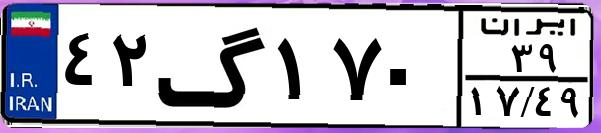0: (385, 28, 445, 110)
1: (270, 28, 330, 110), (470, 70, 495, 125)
2: (110, 28, 156, 98)
3: (508, 27, 537, 80)
4: (57, 26, 110, 100), (535, 70, 560, 125)
7: (330, 28, 385, 110), (495, 70, 520, 125)
9: (560, 70, 590, 125), (537, 27, 568, 80)
گ: (156, 12, 270, 120)
